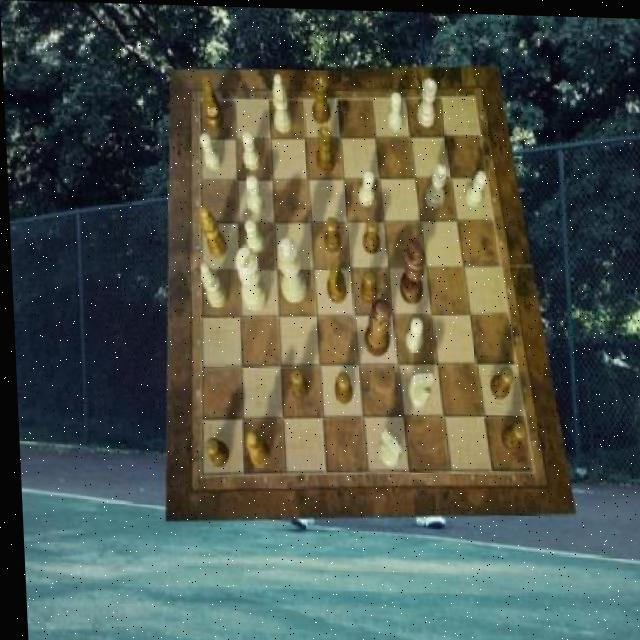bishop: (198, 204, 224, 257), (241, 430, 265, 466)
black-bishop: (396, 237, 424, 304)
black-king: (202, 77, 223, 130), (323, 257, 344, 303)
black-knight: (487, 363, 512, 398), (496, 419, 522, 450), (201, 438, 225, 466), (359, 217, 378, 252), (355, 267, 373, 302), (320, 215, 338, 250), (330, 370, 349, 403), (287, 366, 306, 399)
black-pawn: (360, 296, 391, 354)
black-queen: (309, 75, 330, 123), (313, 124, 333, 171)
black-rook: (197, 261, 225, 307), (271, 72, 291, 133)
white-bishop: (232, 242, 265, 309)
white-king: (402, 368, 431, 406), (375, 425, 399, 464)
white-knight: (463, 169, 487, 206), (198, 131, 220, 169), (385, 89, 403, 129), (240, 132, 258, 171), (355, 167, 373, 205), (244, 173, 262, 211), (402, 315, 421, 350), (242, 217, 261, 252)
white-pawn: (274, 236, 304, 302)
white-queen: (414, 76, 438, 126), (421, 160, 447, 206)
